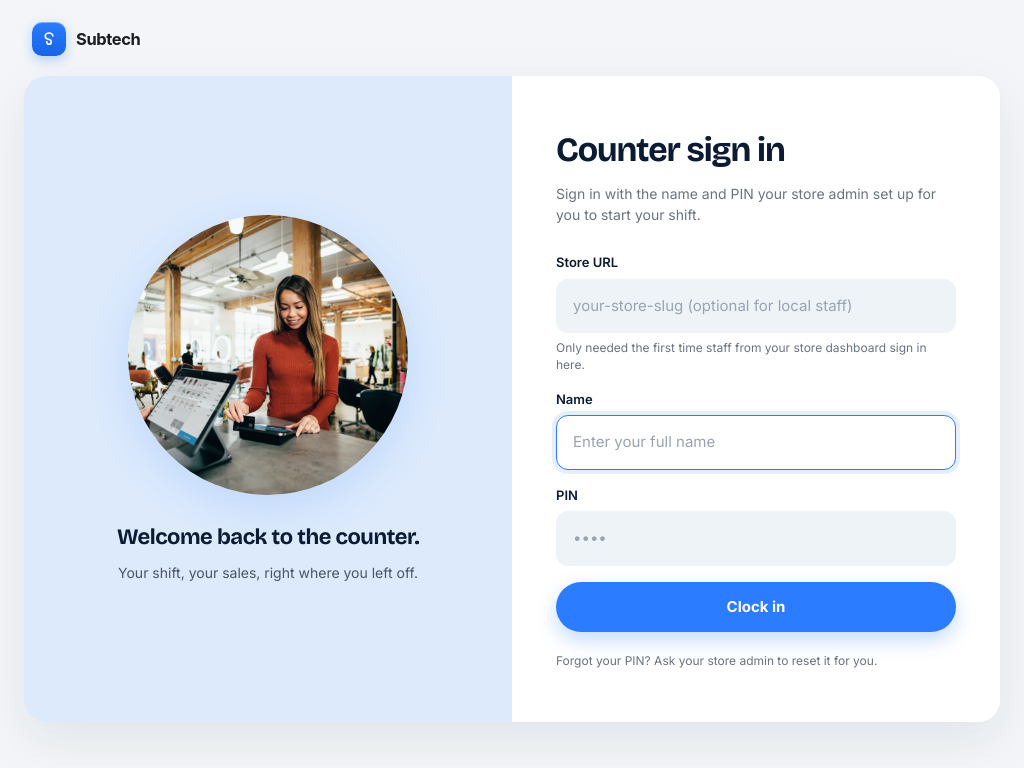
it: Counterpoint POS › rejects an incorrect name/PIN combination
Type "Grace Nwosu" into the field labelled "Name". click: x=756, y=443
box: [556, 415, 956, 470]
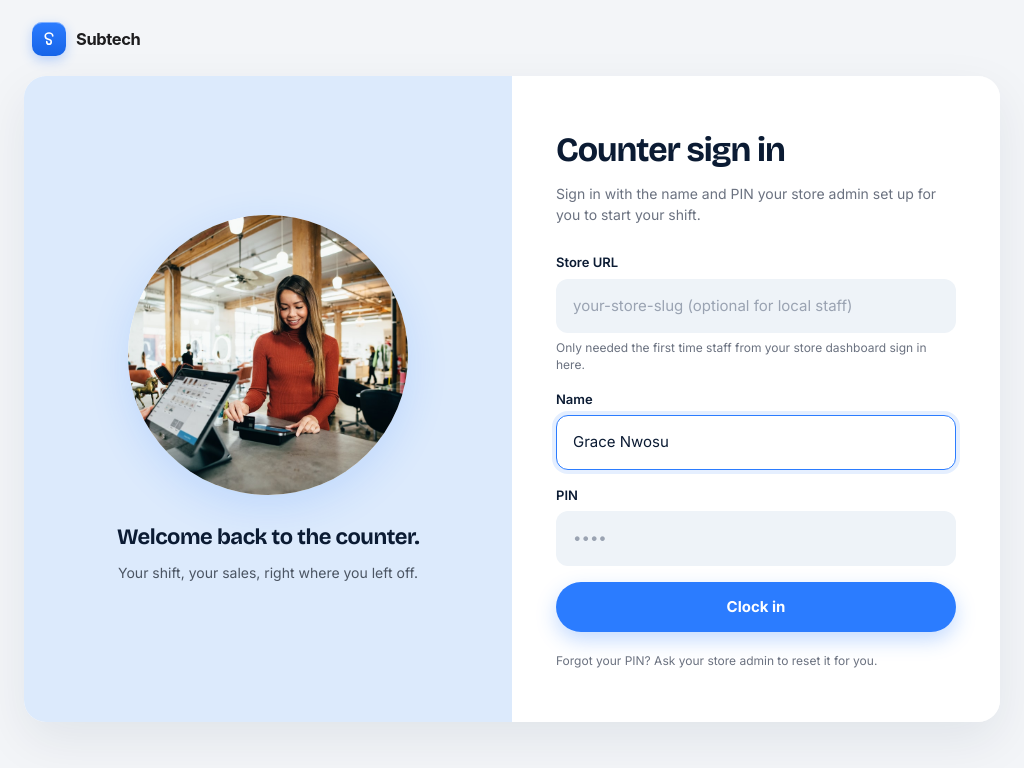
Type "0000" into the password field labelled "PIN". click: x=756, y=539
box: [556, 511, 956, 566]
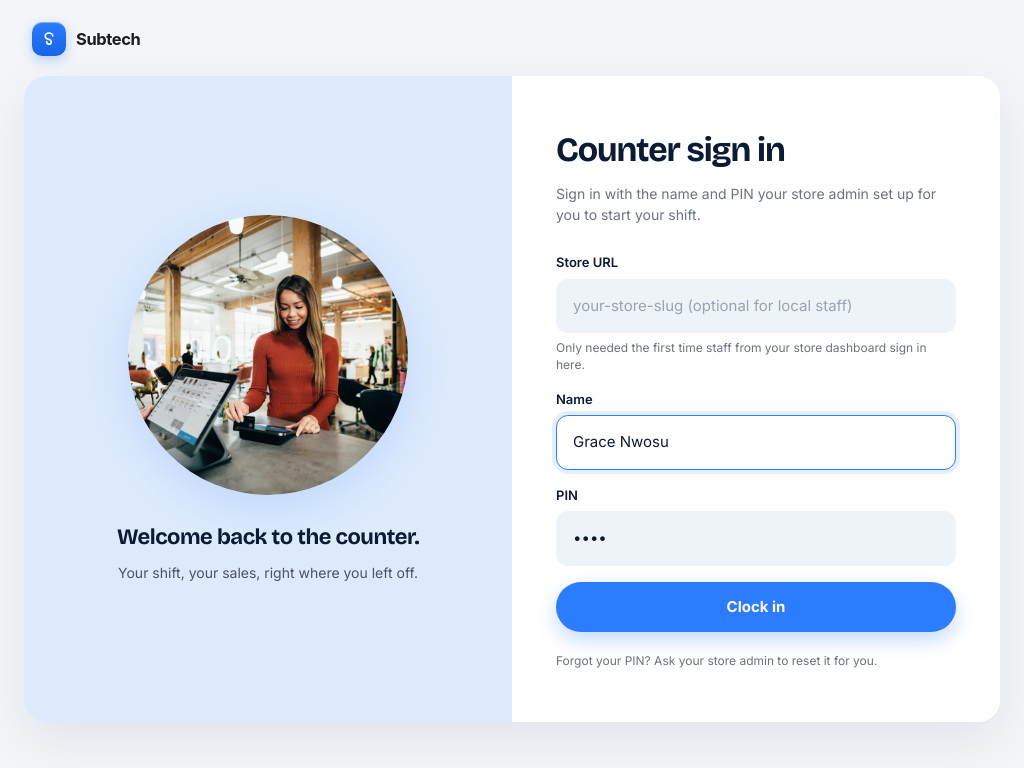
Click the button "Clock in". click: x=756, y=607
box: [556, 582, 956, 632]
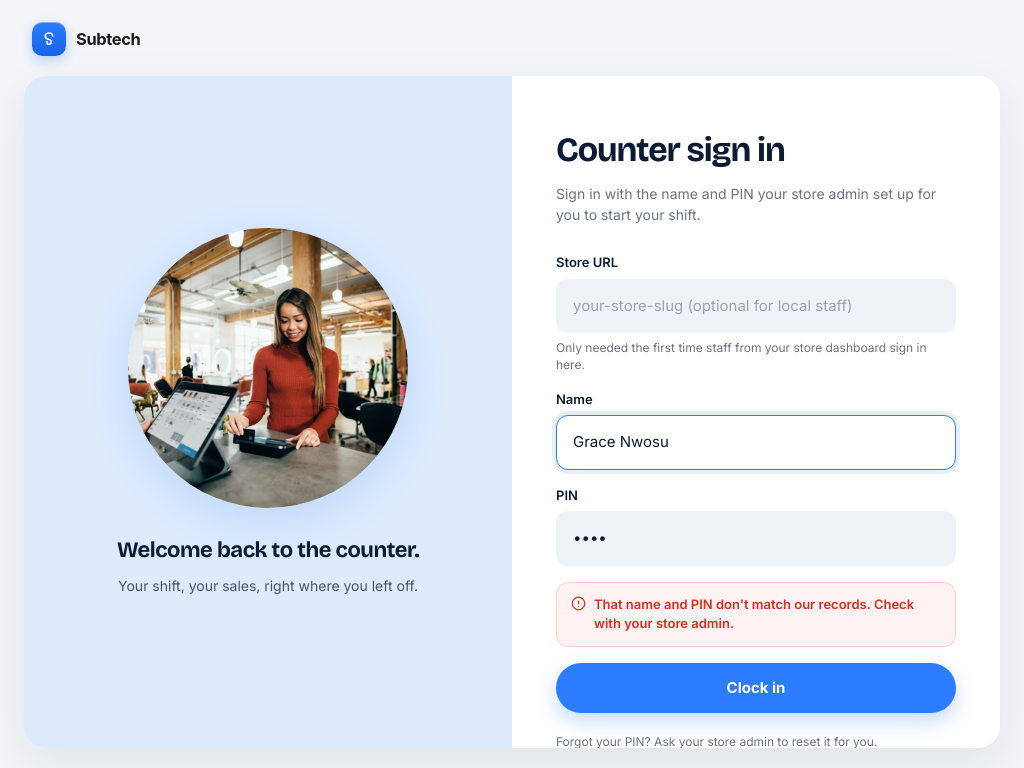
Now the text "don't match our records" is shown, box [594, 596, 914, 631]
